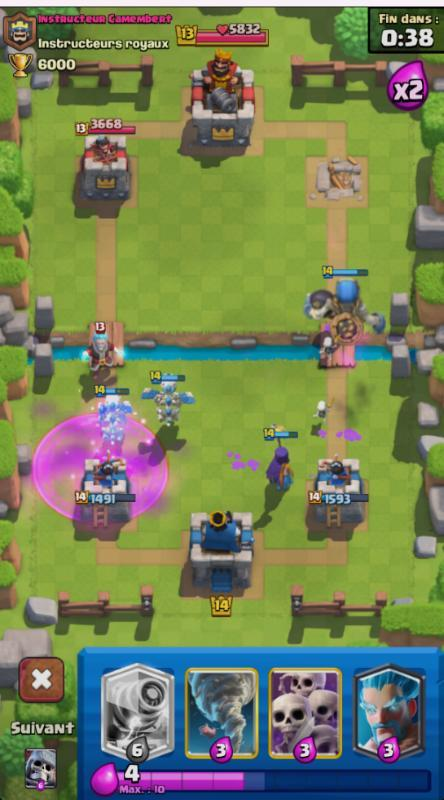enemy_ice_wizard: (76, 318, 128, 373)
player_giant_skeleton: (299, 267, 385, 344)
player_skeleton_dragon: (137, 368, 196, 429), (84, 385, 138, 450)
player_skeletons: (307, 397, 334, 426)
player_witch: (259, 424, 299, 494)
